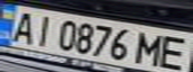0: (51, 17, 78, 52)
6: (109, 26, 136, 62)
7: (90, 22, 115, 58)
8: (72, 20, 96, 55)
A: (3, 8, 42, 44)
E: (154, 34, 193, 71)
I: (27, 12, 57, 47)
M: (133, 29, 169, 66)
